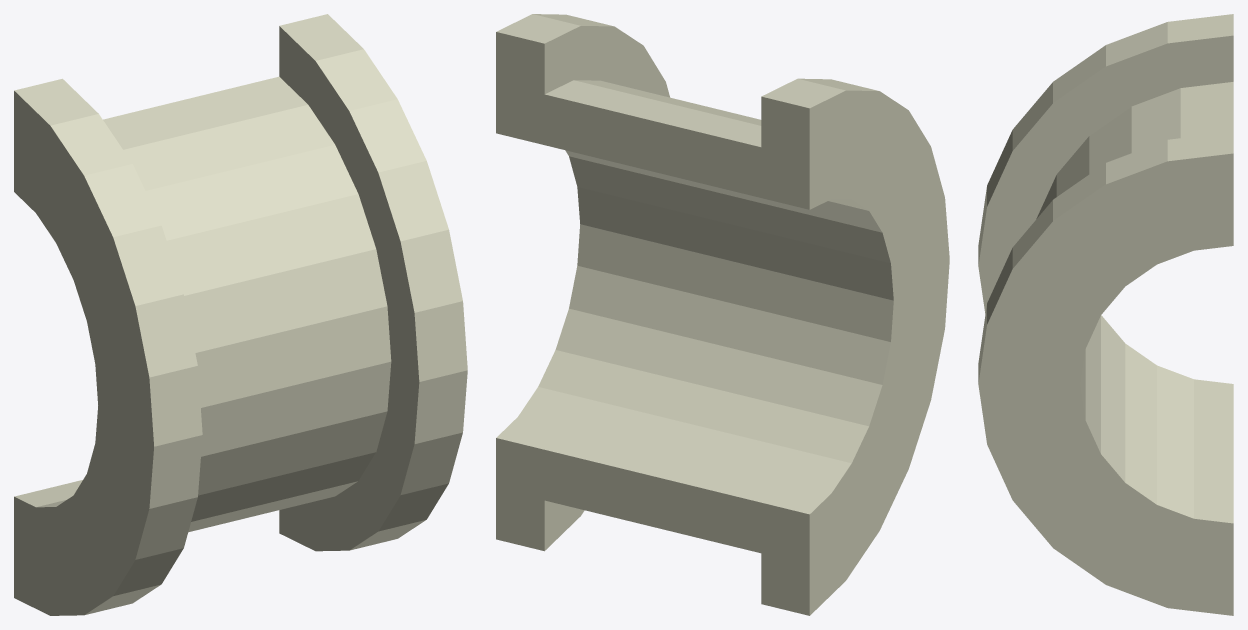
File: section_167.obj
3 views of the same model, side by side, from view 1: azimuth 30°, elevation 25°; view 2: azimuth 150°, elevation 25°; view 3: azimuth 270°, elevation 25° (orthographic). The views are drawn at different scales.
Bounding box in the file's own units: 6.47 × 10 × 5.
